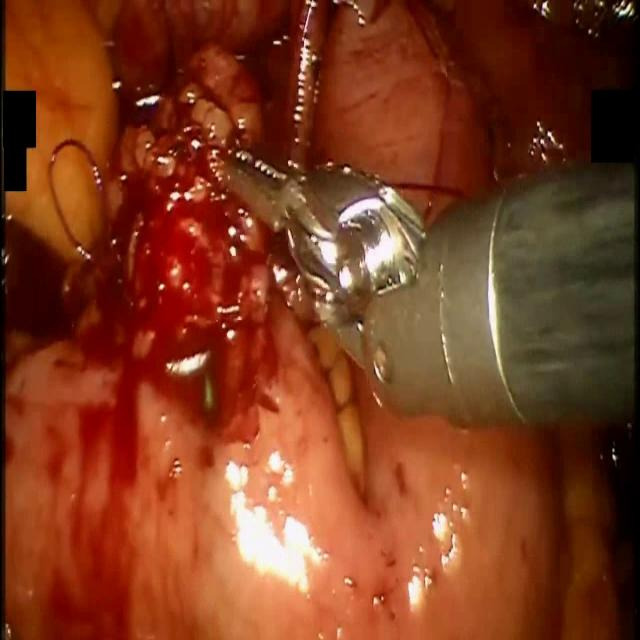surgical-area: (0, 0, 640, 639)
surgical-tool: (216, 149, 638, 428)
